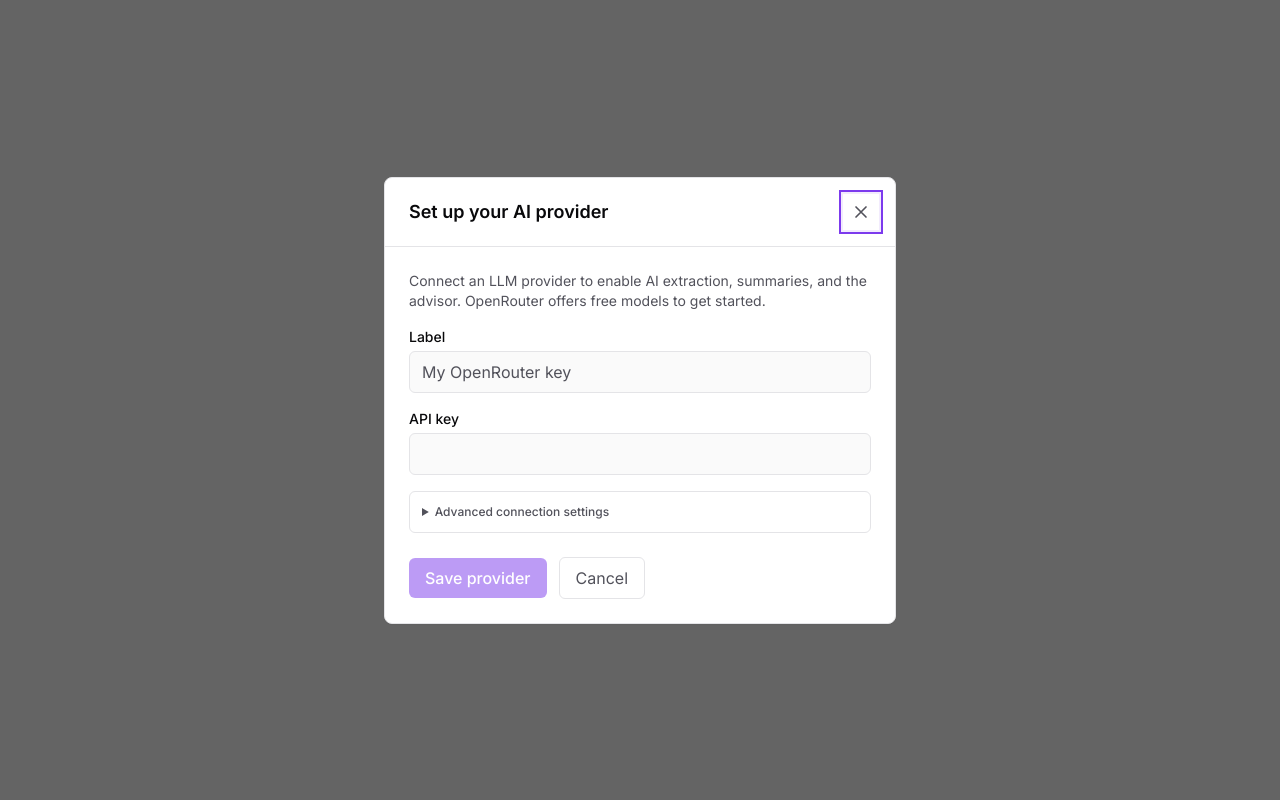
Scenario: FirstRunModal (EPIC-023 PR4) › surfaces an error when create fails and keeps the form open
In the field labelled "Label": (640,372) [409,350,871,392], type "My key"
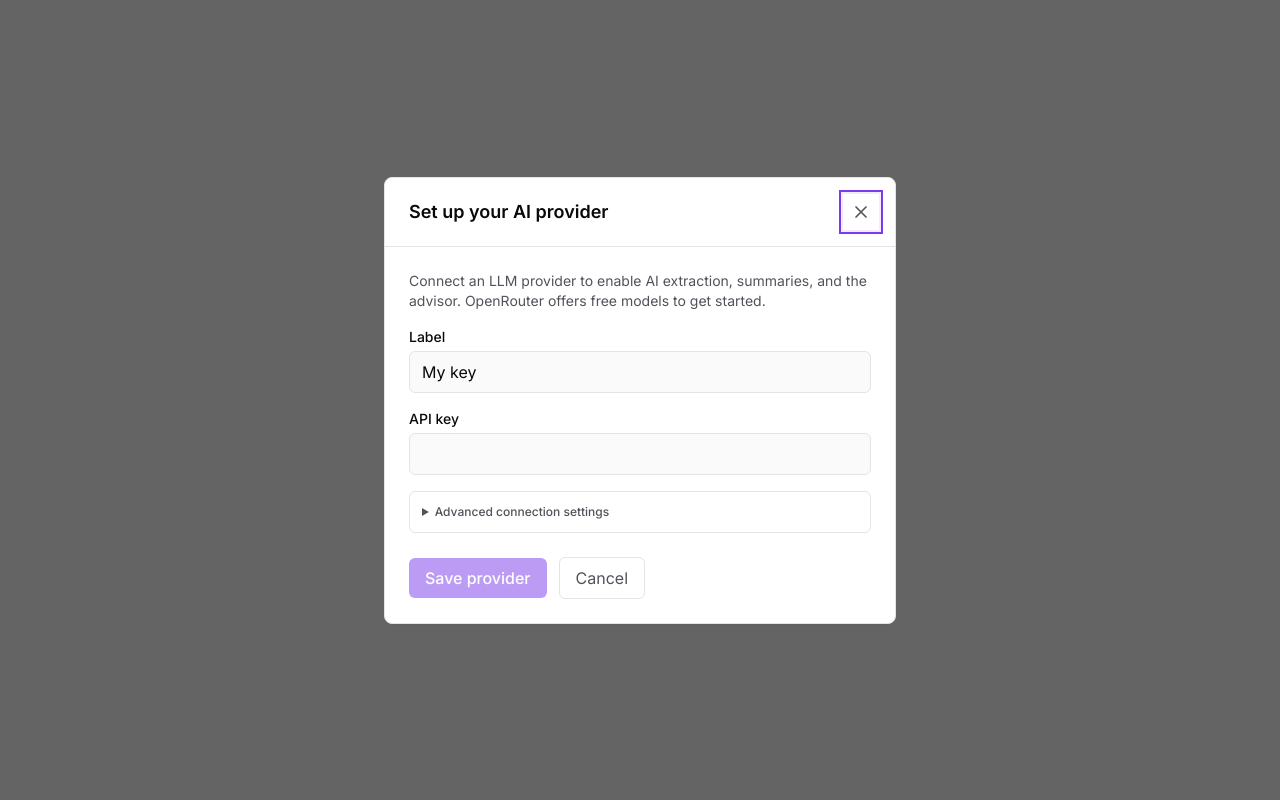
In the password field labelled "API key": (640,454) [409,432,871,474], type "sk"
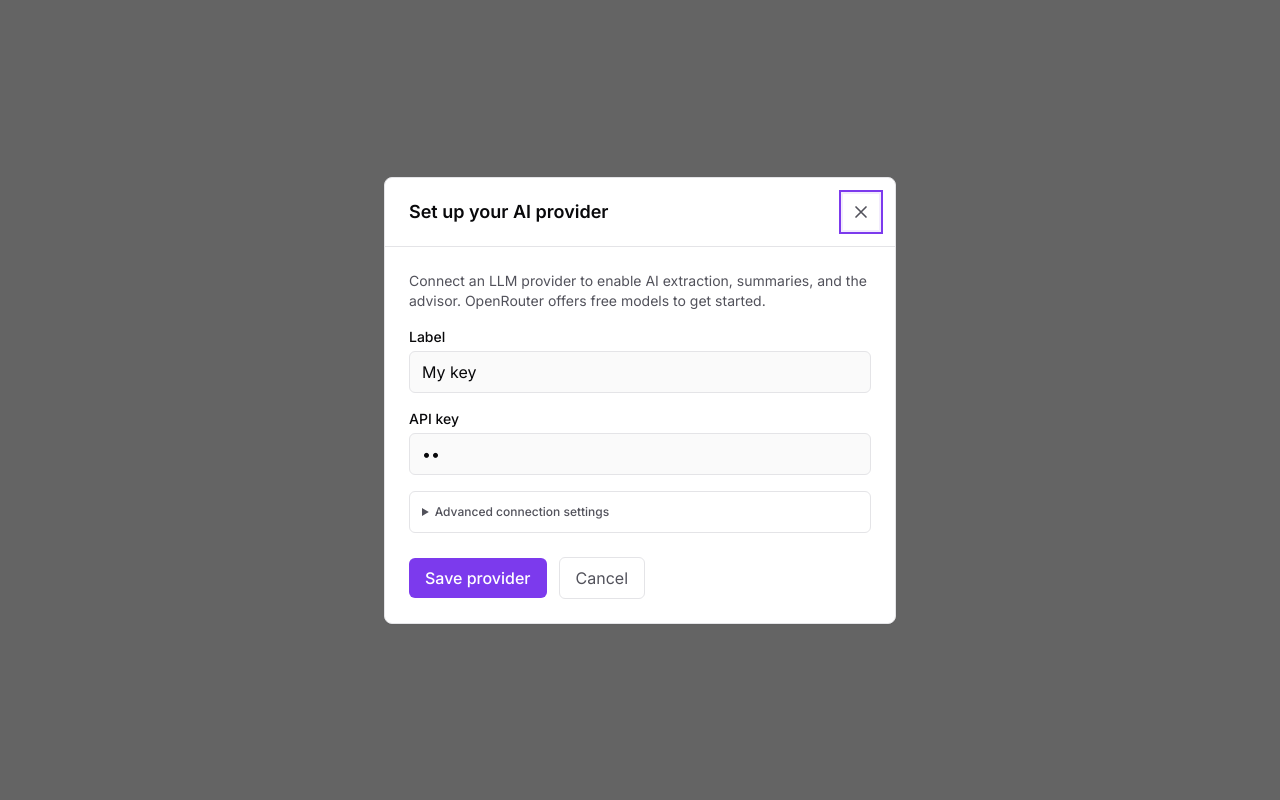
Click the button "Save provider": (478,578) [409,558,547,598]
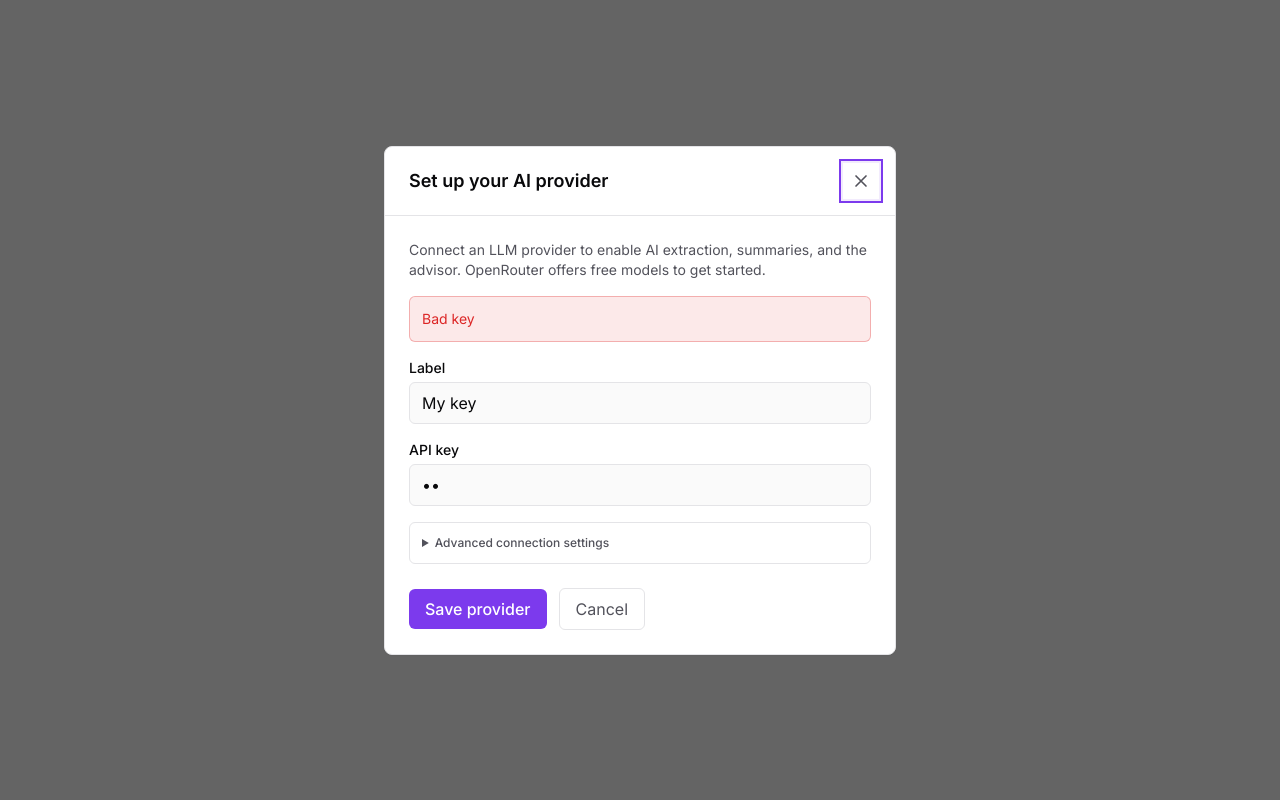
Expected: the message reads "Bad key", [422,310,475,326]
